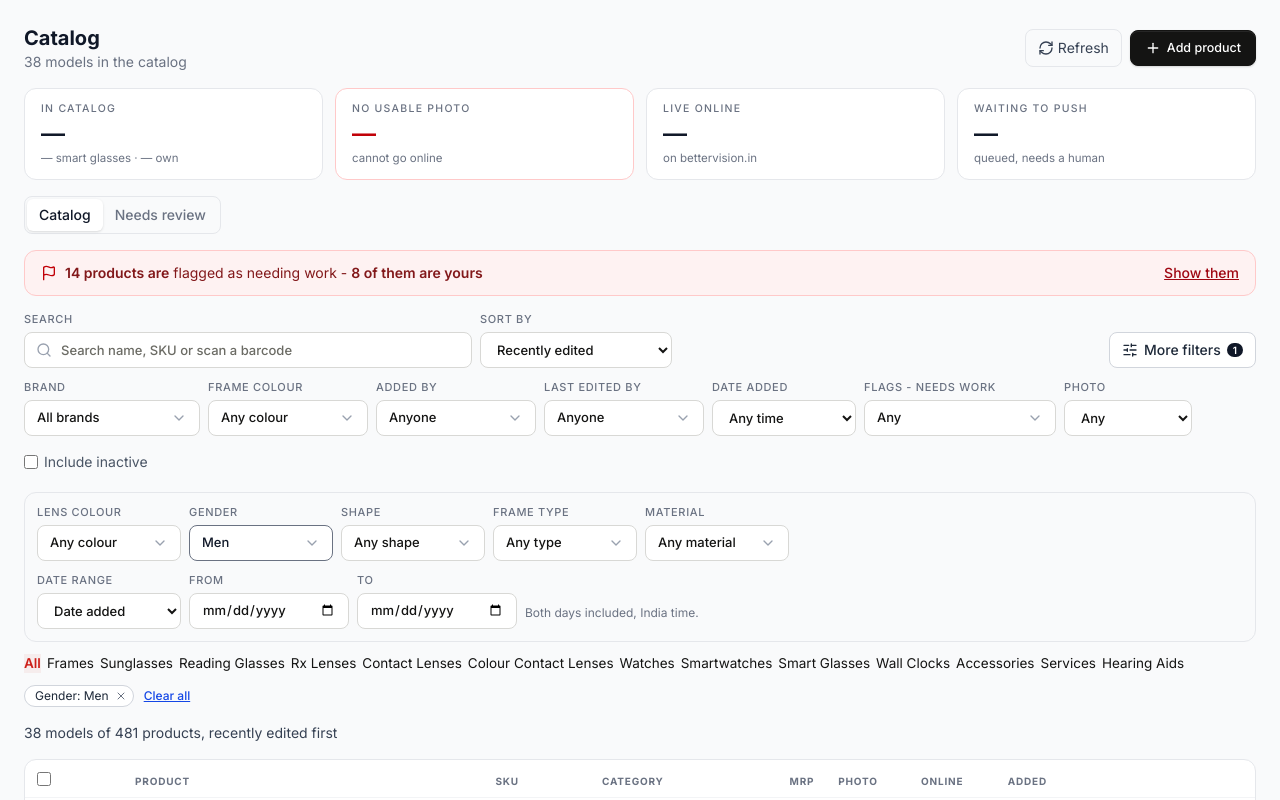
Test case: the date range in its natural order › Last edited chosen BEFORE the days stays Last edited
Step 1. Select "Last edited" in the dropdown labelled "Date range" → (109, 611), box [37, 593, 181, 629]
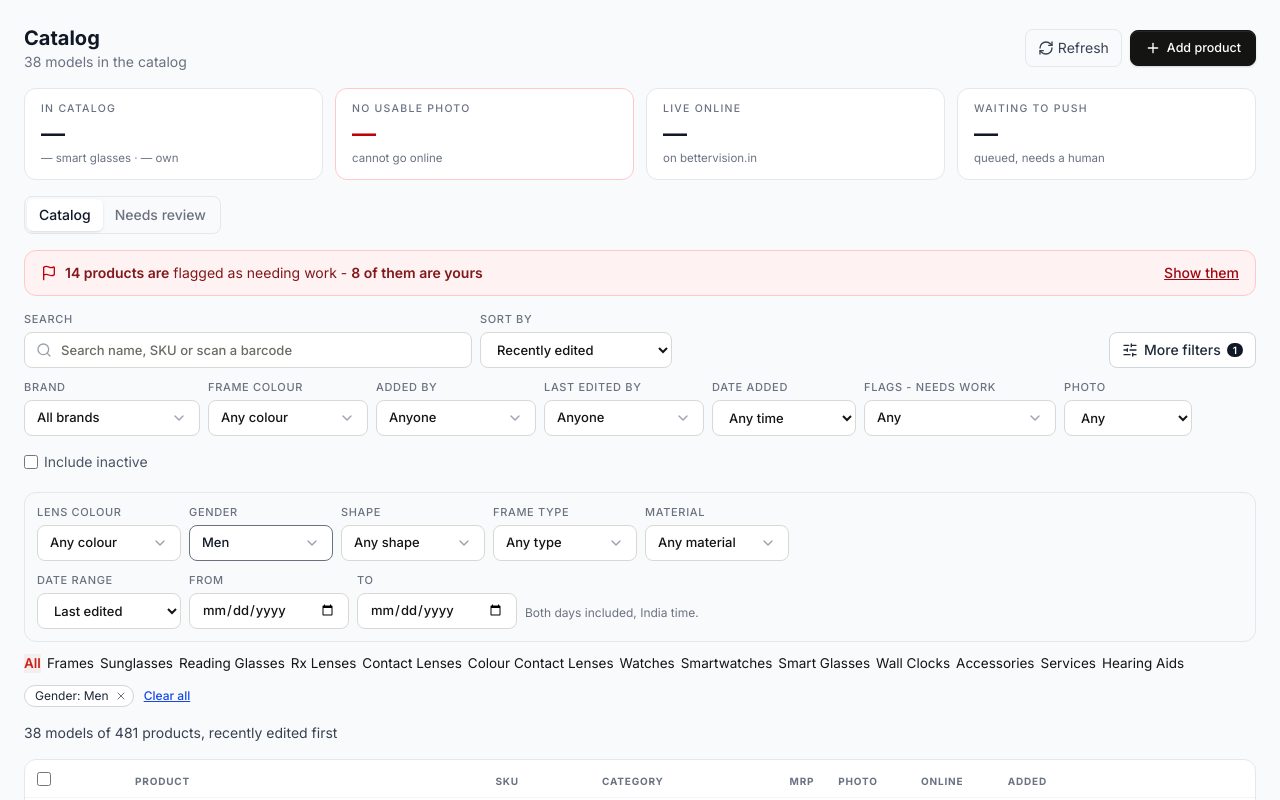
Step 2. Type "2026-10-01" into the date field labelled "From" → (269, 611), box [189, 593, 349, 629]
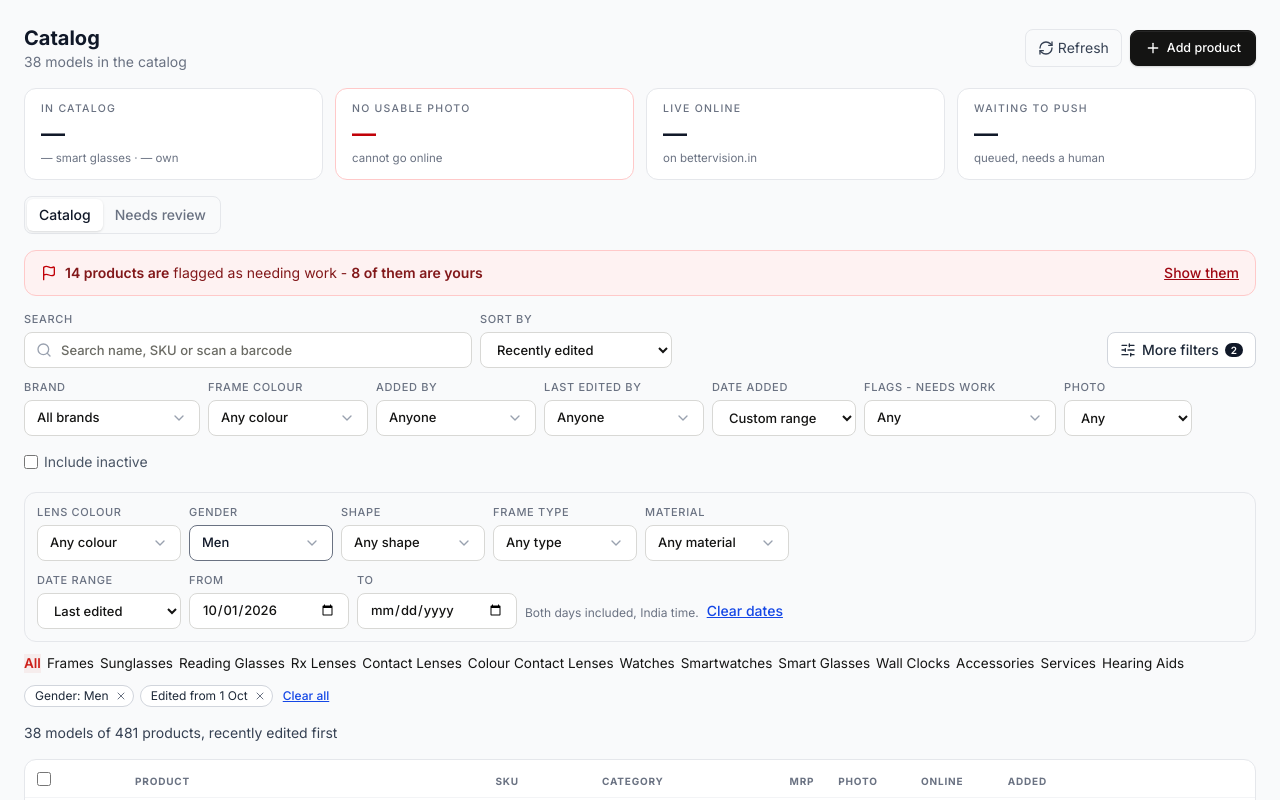
Now the text "Edited from 1 Oct" is shown, box [140, 685, 273, 707]
